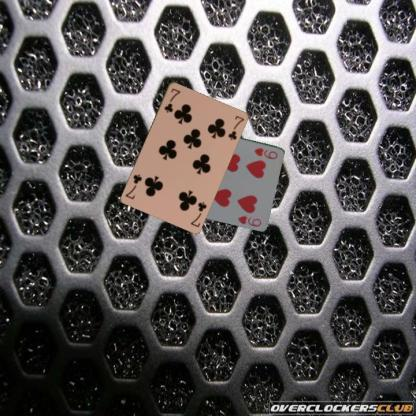7c: (161, 85, 182, 114), (188, 199, 208, 228)
9h: (252, 145, 279, 161)
